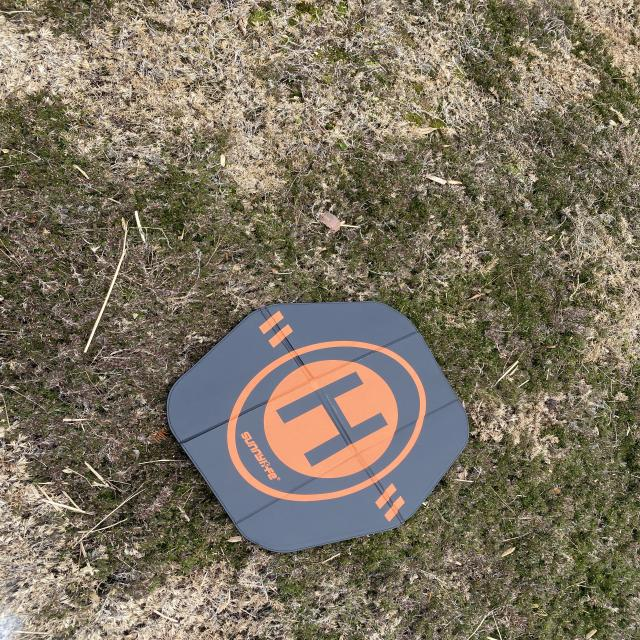helipad: (220, 335, 431, 505)
